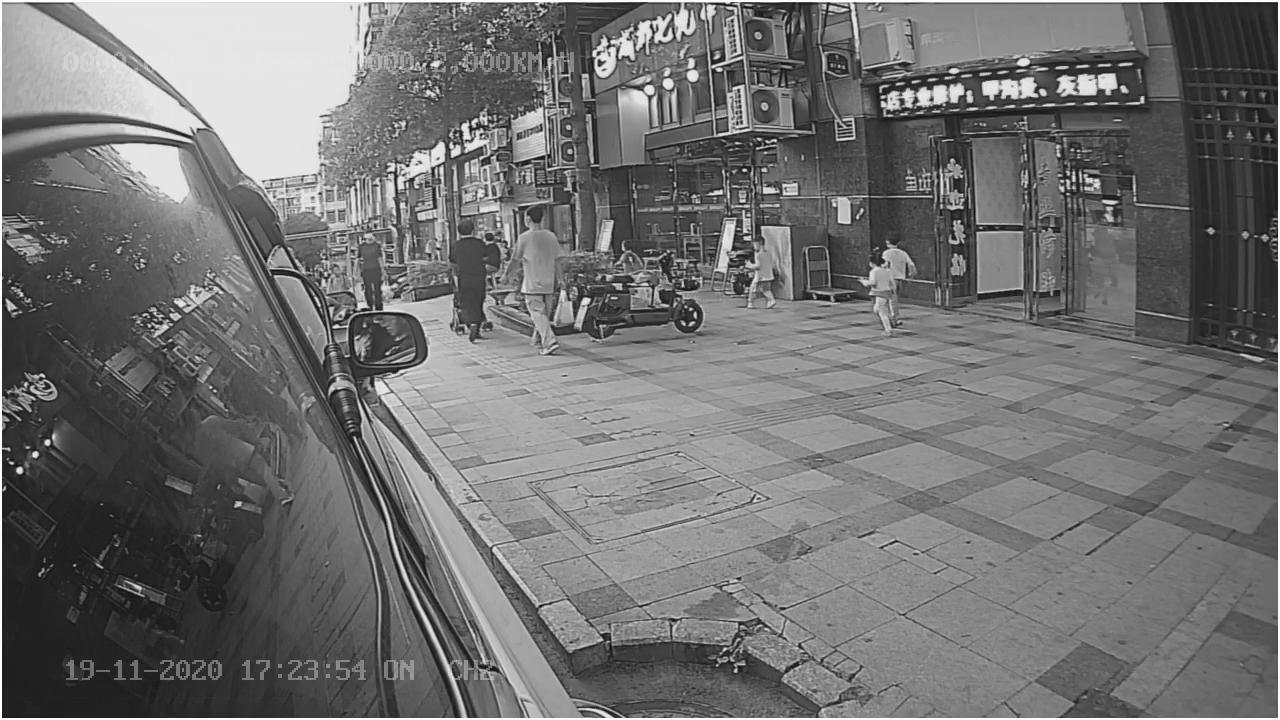person: (496, 204, 567, 363), (441, 217, 494, 347), (856, 252, 899, 336), (741, 231, 778, 310)
